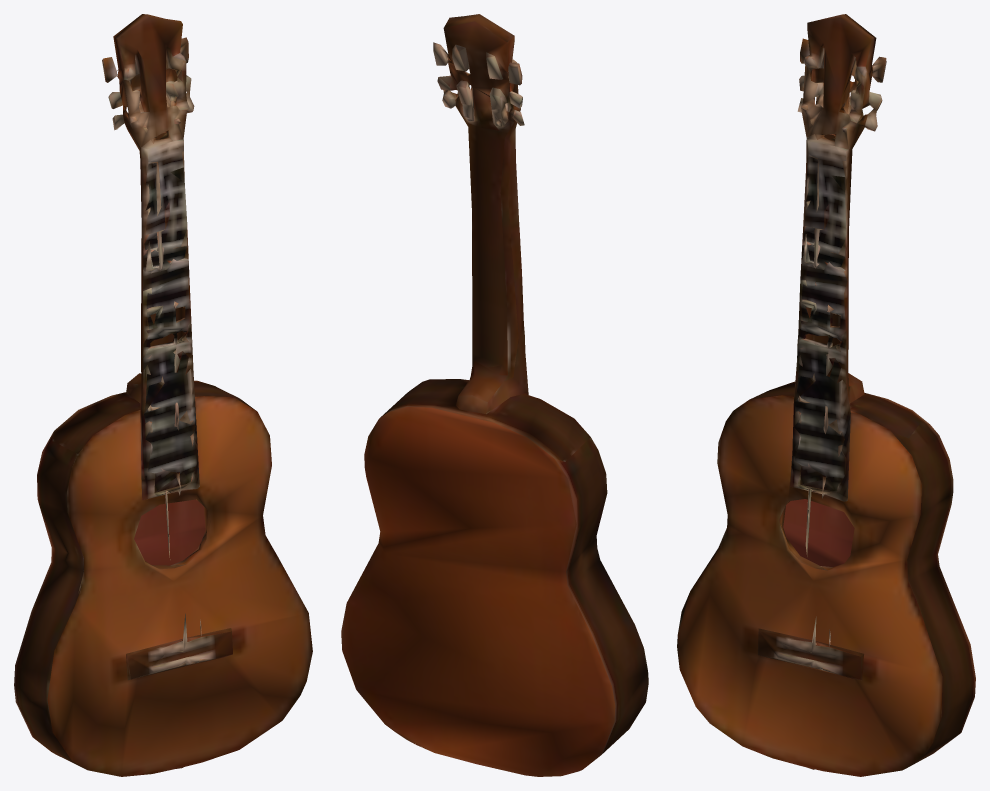
The model's file is guitarra.movil.glb.
The picture shows the model from 3 angles, left to right: view 1: azimuth 30°, elevation 25°; view 2: azimuth 150°, elevation 25°; view 3: azimuth 330°, elevation 25°; orthographic projection. The views are drawn at different scales.
Visible parts, largest first — view 1: geometry_0; view 2: geometry_0; view 3: geometry_0.
Part boxes in pixels (x1,y1,x2,y2): geometry_0: (14,14,312,776); geometry_0: (341,14,648,776); geometry_0: (677,14,975,776).
Bounding box in the file's own units: 0.3785 × 1 × 0.1188.
Materials: 1 (1 with a texture image).
